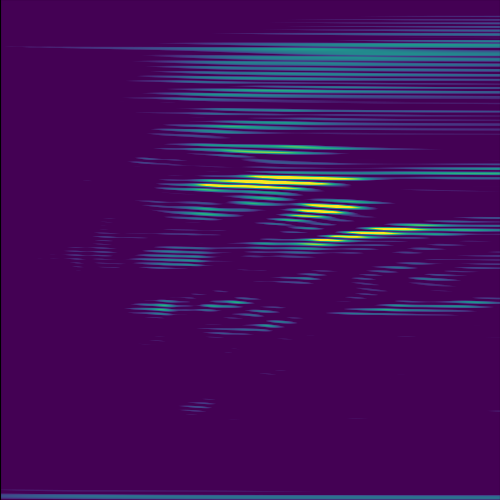semblance: (179, 172, 366, 192), (291, 222, 426, 247), (268, 198, 384, 226)
